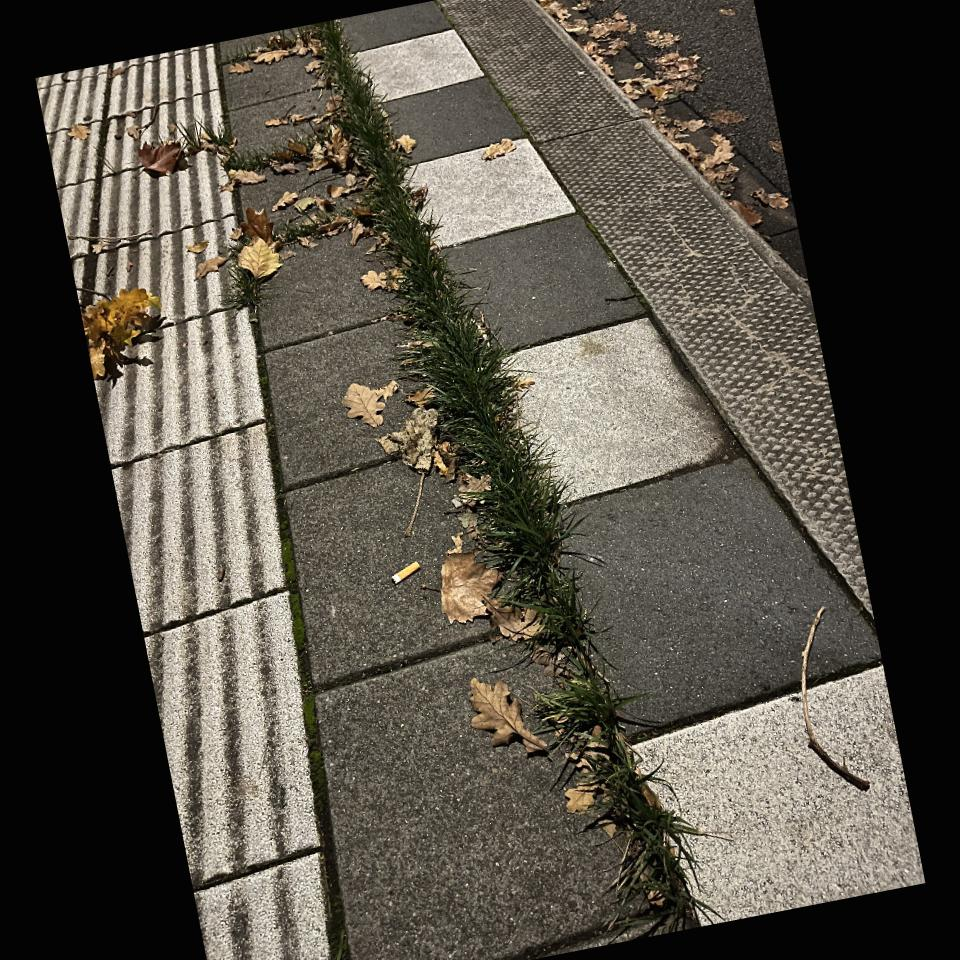weed: (312, 33, 712, 922)
